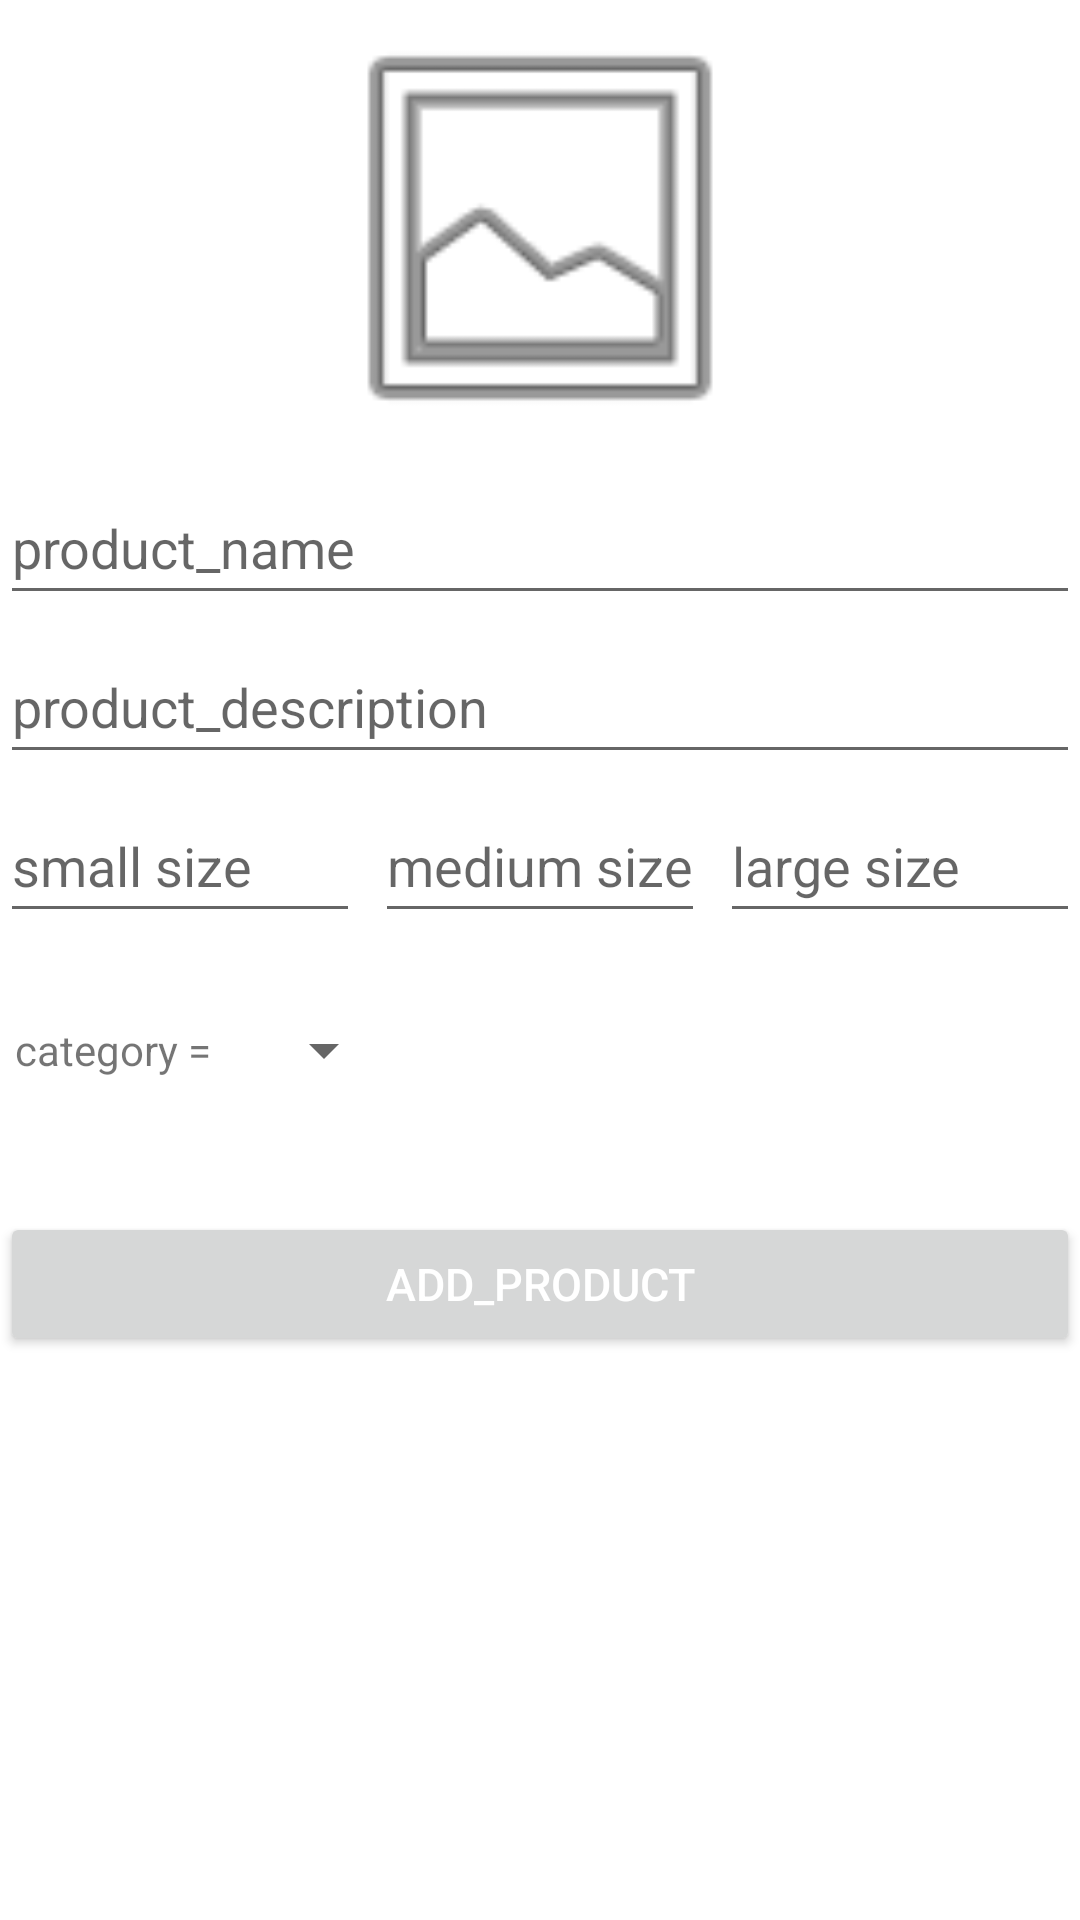

Where icons sit on this 1080 × 1920 app screen, as (x1, y1, x2, y2):
gallery: (368, 56, 712, 400)
